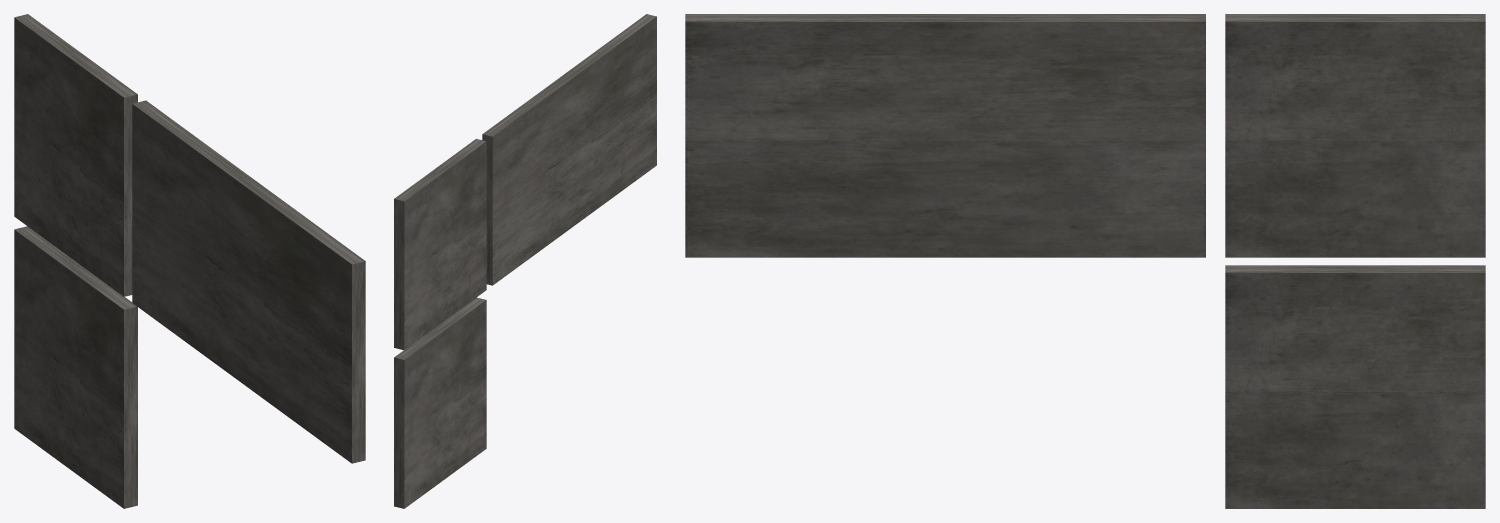
File: Floor Indicator.glb
The picture shows the model from 3 angles, left to right: view 1: azimuth 30°, elevation 25°; view 2: azimuth 150°, elevation 25°; view 3: azimuth 270°, elevation 25°; orthographic projection. The views are drawn at different scales.
Parts seen in each view (by area): view 1: Floor Indicator; view 2: Floor Indicator; view 3: Floor Indicator.
Boxes of the visible parts, bbox=[...] form: Floor Indicator: bbox=[14, 14, 365, 508]; Floor Indicator: bbox=[394, 14, 656, 508]; Floor Indicator: bbox=[685, 14, 1485, 508].
Bounding box in the file's own units: 0.0363 × 1.03 × 1.54.
1 material, 1 textured.
